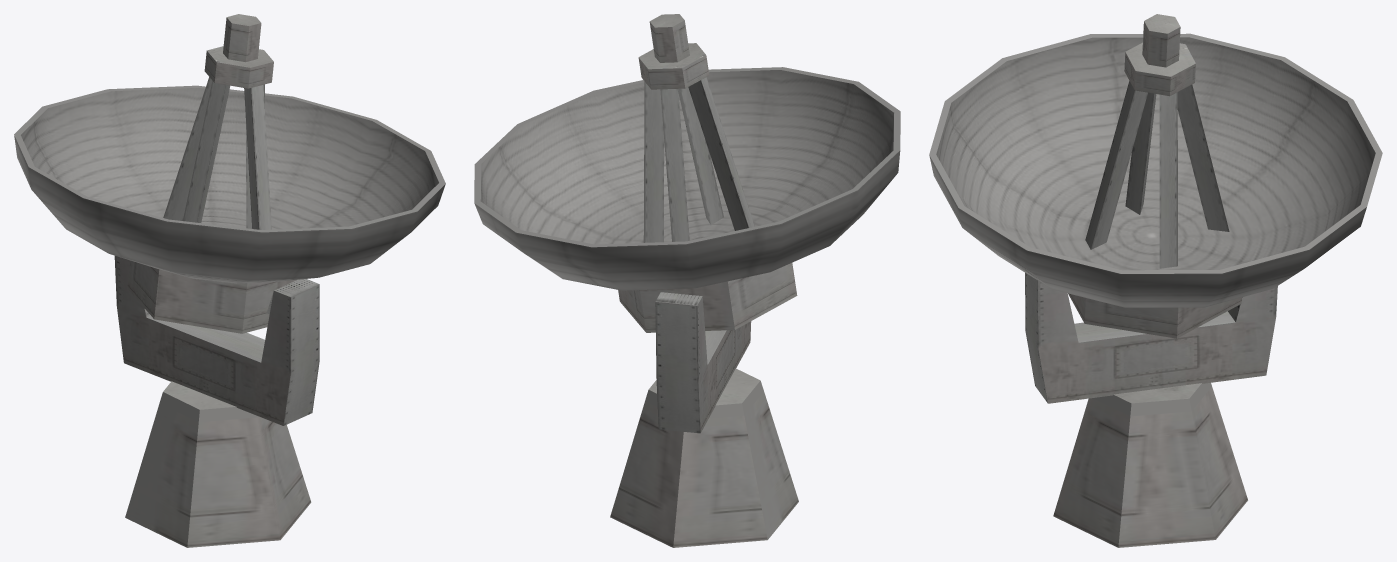
Rendered from dish.fbx.
3 views of the same model, side by side, from view 1: azimuth 30°, elevation 25°; view 2: azimuth 150°, elevation 25°; view 3: azimuth 270°, elevation 25° (orthographic). The views are drawn at different scales.
Parts seen in each view (by area): view 1: Dish; view 2: Dish; view 3: Dish.
Part boxes in pixels (x1,y1,x2,y2): Dish: [14, 14, 445, 547]; Dish: [474, 14, 900, 547]; Dish: [929, 14, 1382, 547].
Size of the model in its own units: 227 by 283 by 231.
